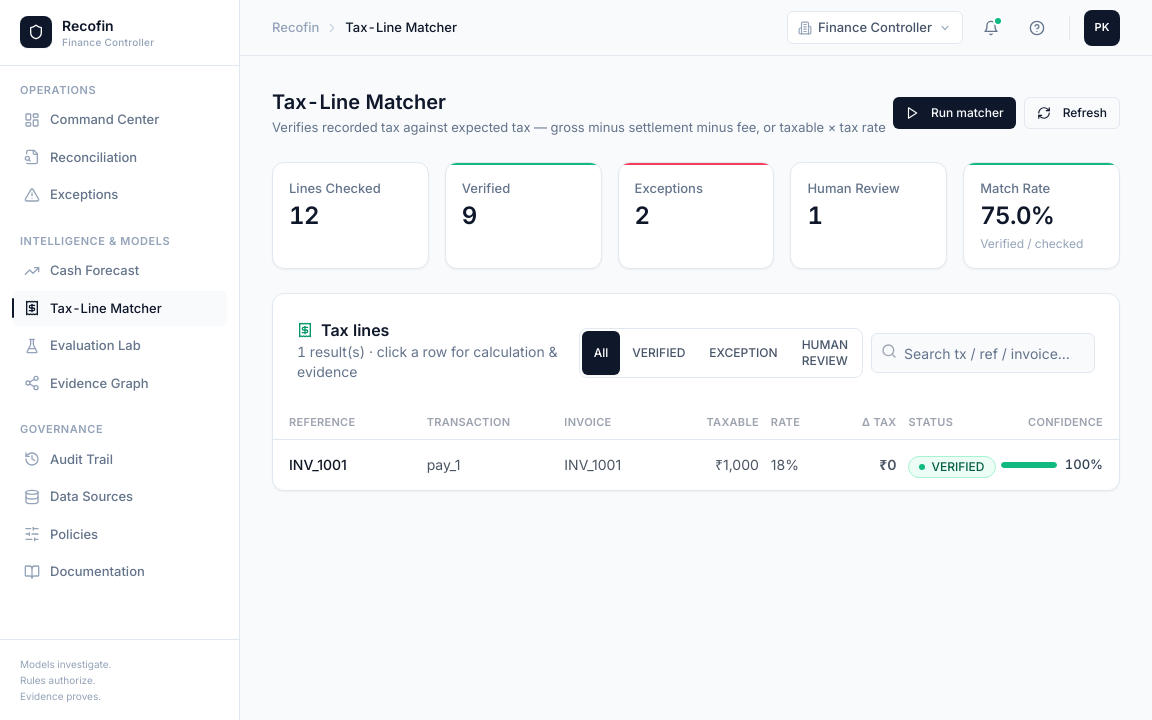
Test: Tax matcher page › opens a detail modal with the calculation and evidence
What coordinates should you click on to do the following:
click the text "pay_1"
I would click on:
 (444, 464)
Its box is 427,456 -> 460,472.
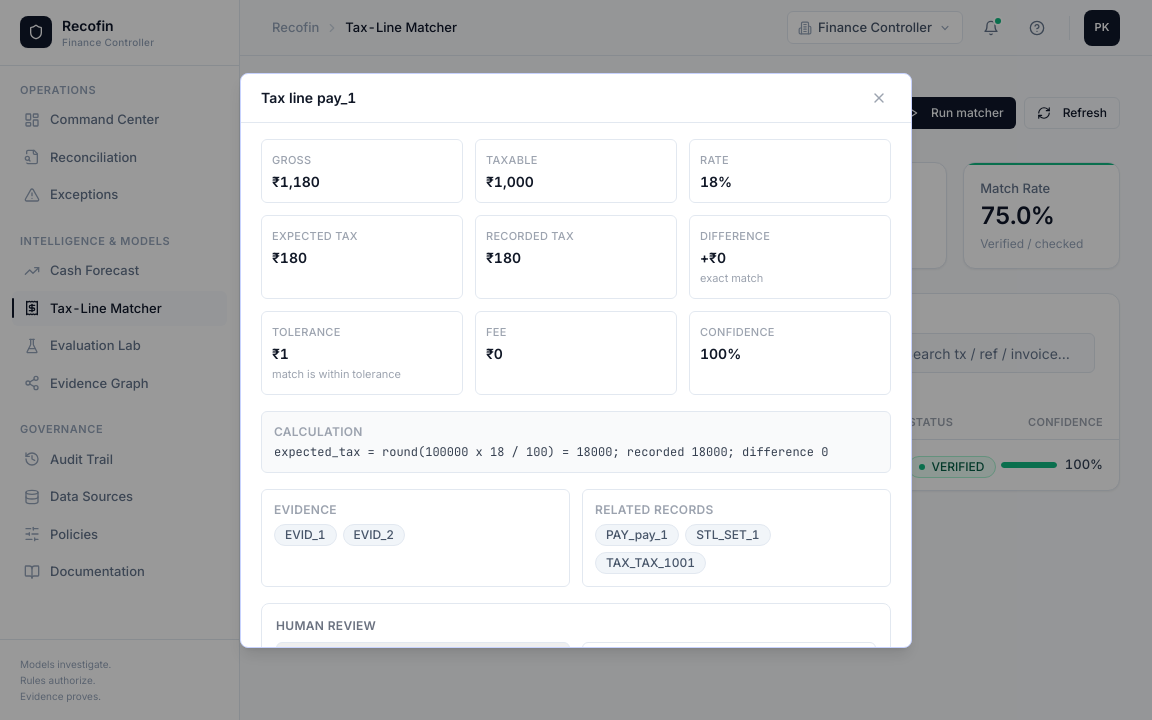
Now the text "Calculation" is shown, box 274,424 -> 363,438
Now the text "expected_tax = round" is shown, box 274,444 -> 828,460
Now the text "EVID_1" is shown, box 285,526 -> 326,542
